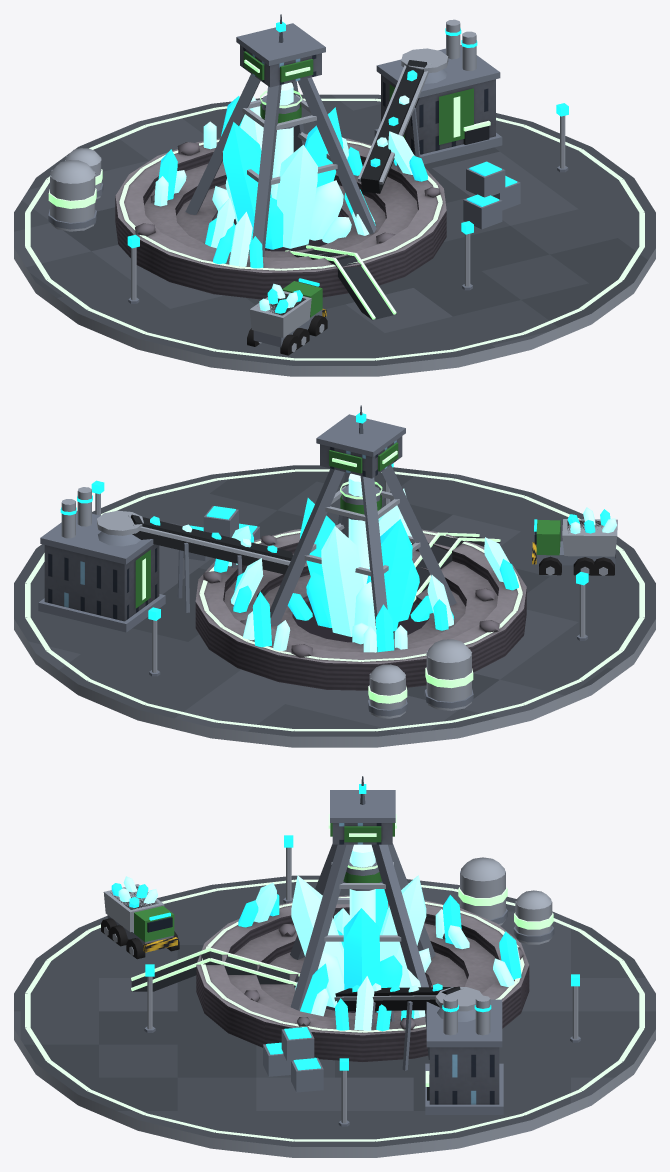
File: mine_scifi_green.glb
3 views of the same model, one above another, from view 1: azimuth 30°, elevation 25°; view 2: azimuth 150°, elevation 25°; view 3: azimuth 270°, elevation 25° (orthographic).
Parts seen in each view (by area): view 1: mine_scifi_green; view 2: mine_scifi_green; view 3: mine_scifi_green.
Part boxes in pixels (x1=…): mine_scifi_green: x1=14, y1=14, x2=655, y2=376; mine_scifi_green: x1=14, y1=405, x2=655, y2=747; mine_scifi_green: x1=14, y1=776, x2=655, y2=1157.
Size of the model in its own units: 1.39 by 0.54 by 1.39.
Materials: 6 (1 with a texture image).
